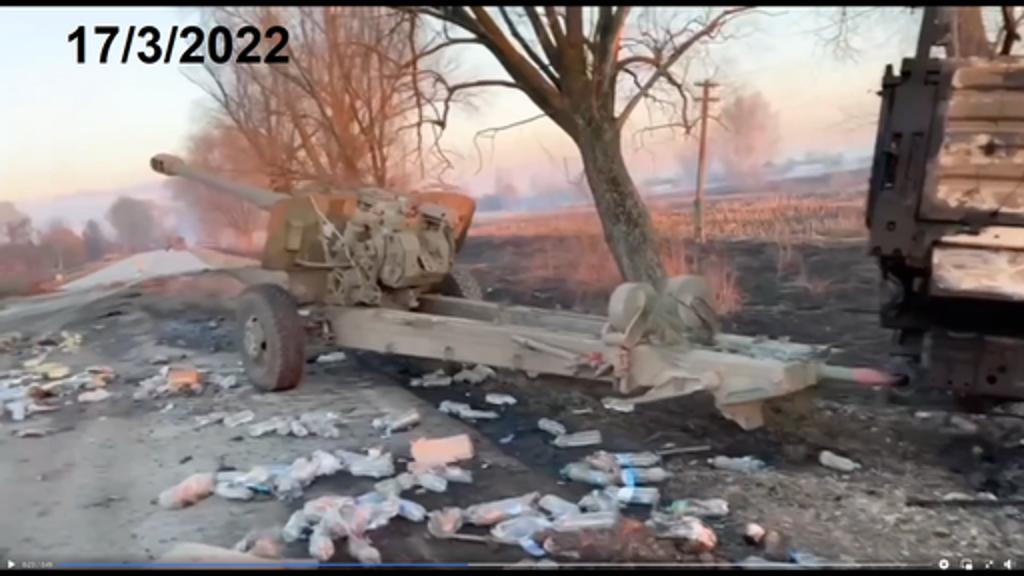ART: (148, 142, 818, 430)
